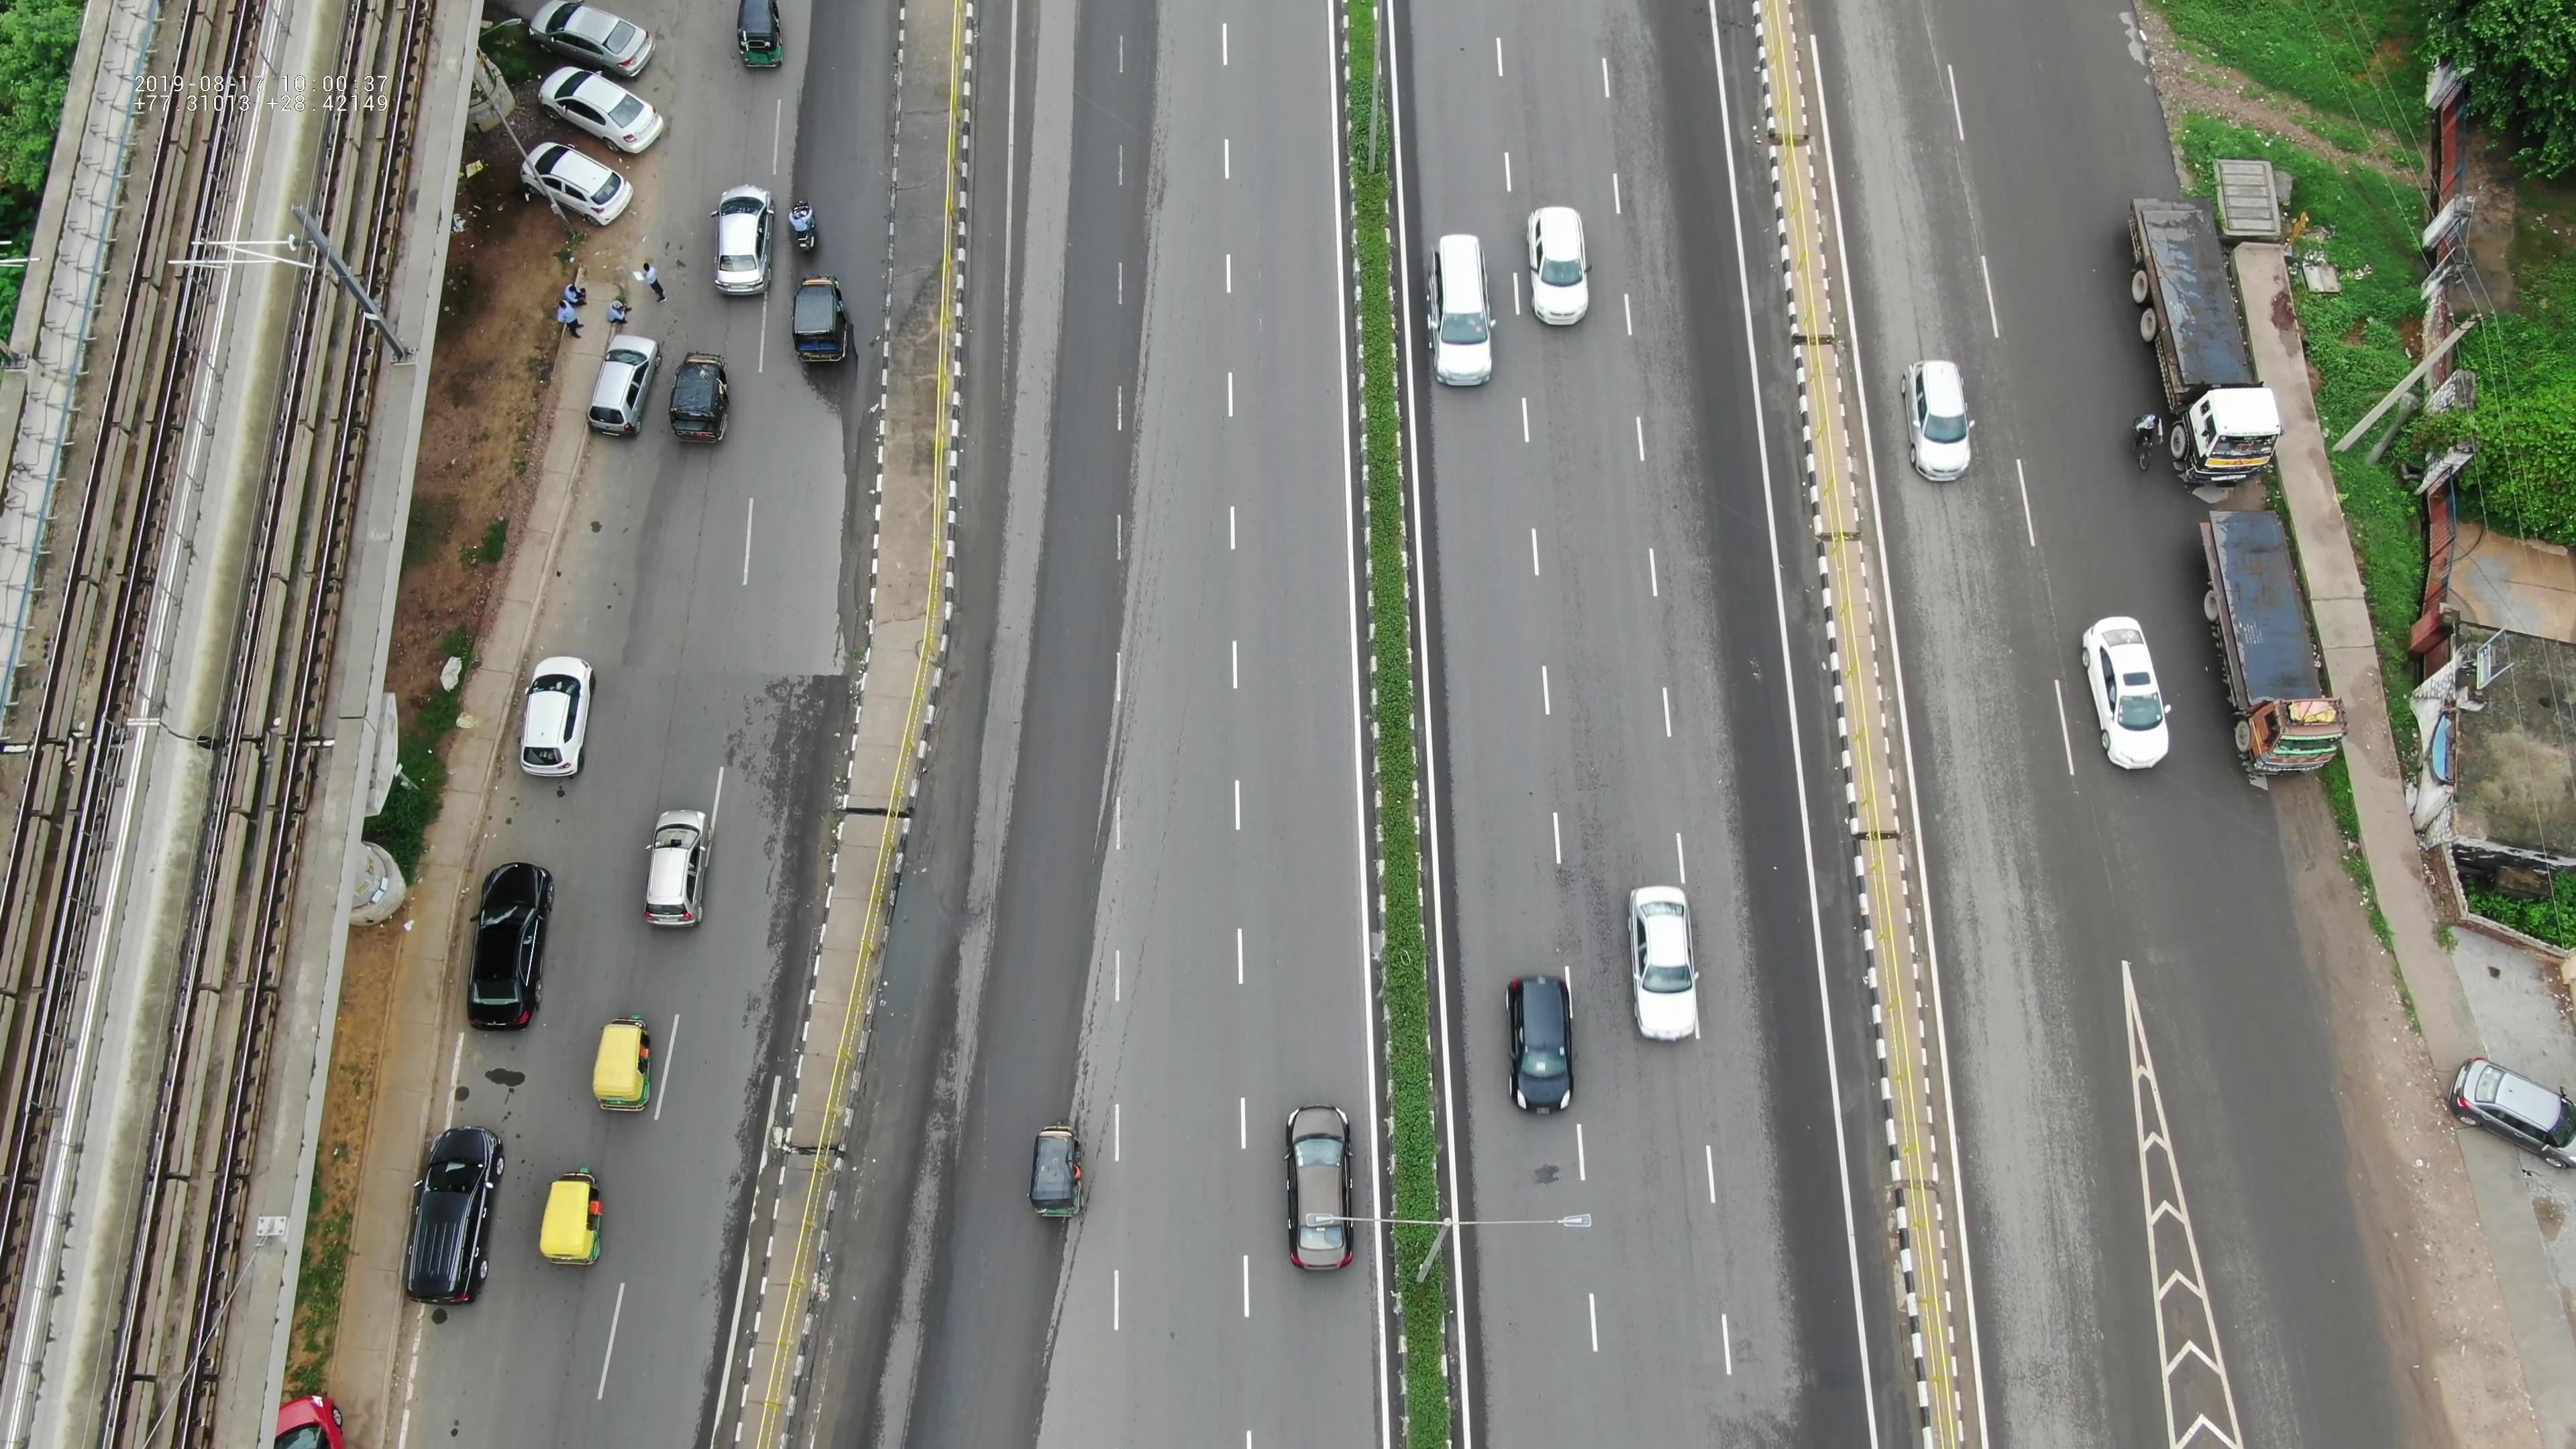Muddy_road: (2311, 1152, 2463, 1449)
